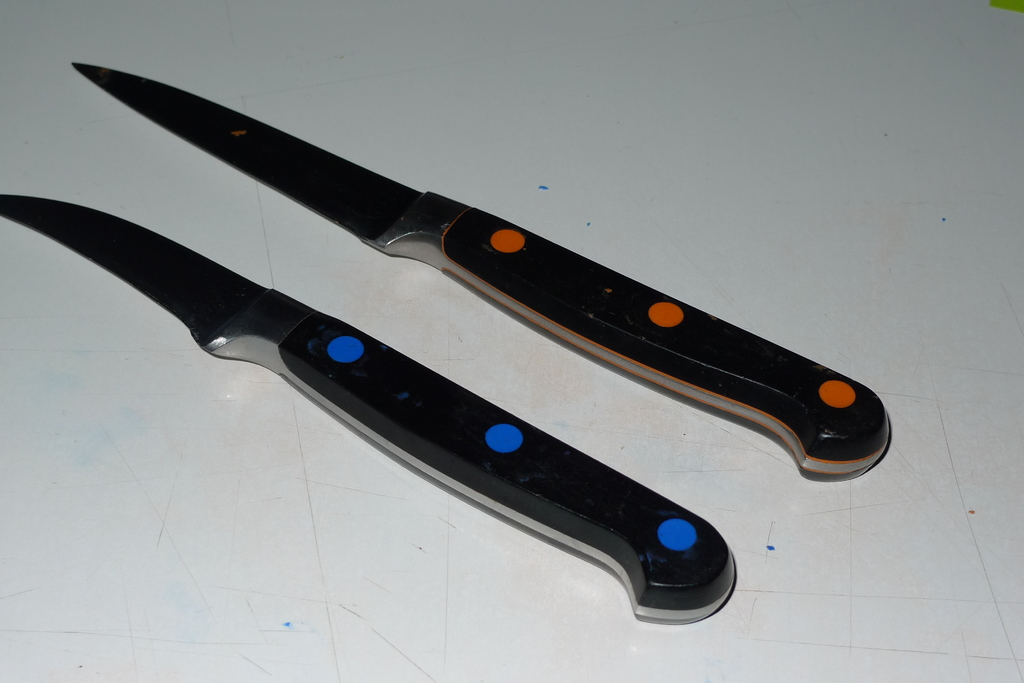knife: (71, 62, 889, 482), (0, 193, 734, 624)
